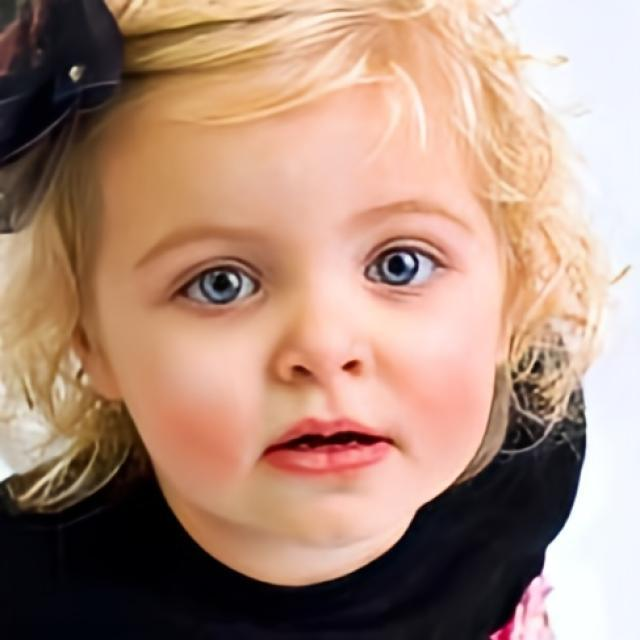surprise: (90, 73, 502, 549)
